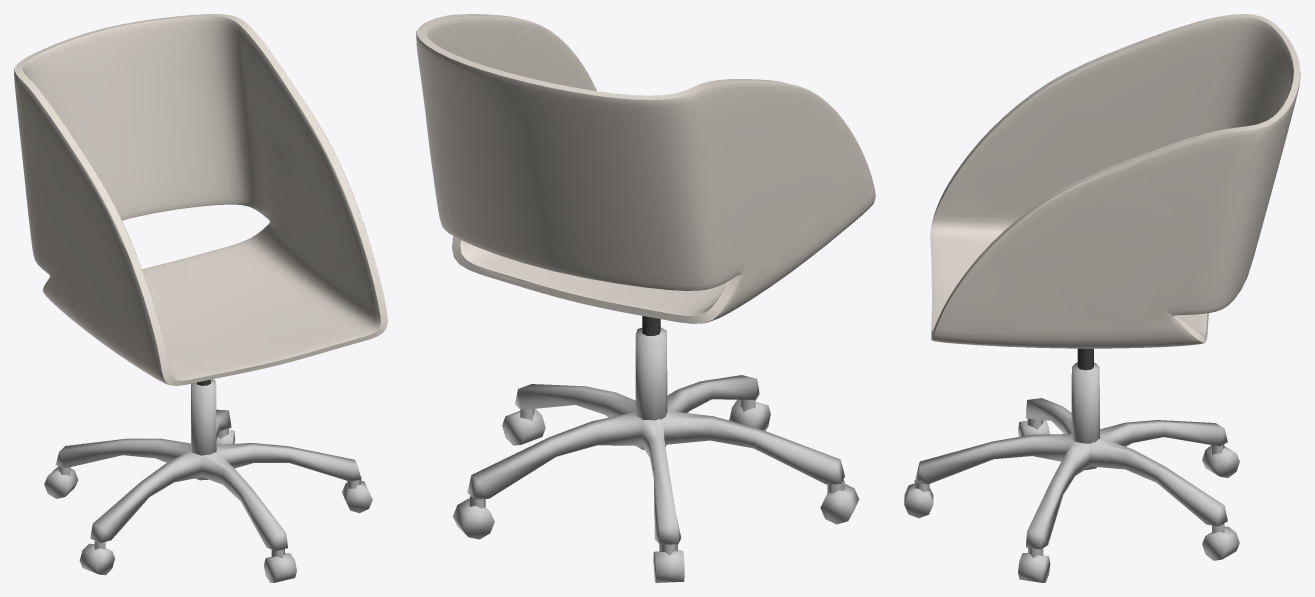
File: Chair.FBX
3 renders of one model, left to right at view 1: azimuth 30°, elevation 25°; view 2: azimuth 150°, elevation 25°; view 3: azimuth 270°, elevation 25°, orthographic. The views are drawn at different scales.
Visible parts, largest first — view 1: chair; view 2: chair; view 3: chair.
Boxes of the visible parts, x1=… form: chair: x1=14, y1=14, x2=387, y2=582; chair: x1=416, y1=14, x2=875, y2=582; chair: x1=904, y1=14, x2=1300, y2=582.
Bounding box in the file's own units: 65.13 × 90.57 × 73.22.
